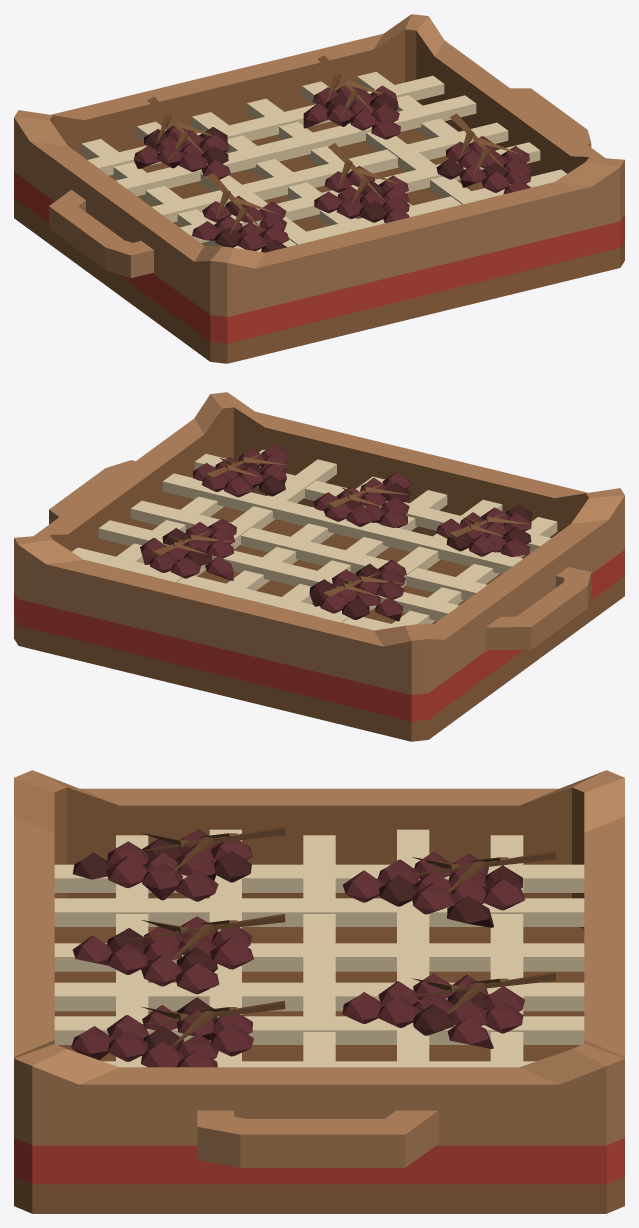
The model's file is FMS_Workshop_PRD_12.fbx.
3 views of the same model, one above another, from view 1: azimuth 30°, elevation 25°; view 2: azimuth 150°, elevation 25°; view 3: azimuth 270°, elevation 25° (orthographic). The views are drawn at different scales.
Visible parts, largest first — view 1: FMS_Workshop_PRD_12_Body; view 2: FMS_Workshop_PRD_12_Body; view 3: FMS_Workshop_PRD_12_Body.
Part boxes in pixels (left/top/right/bottom): FMS_Workshop_PRD_12_Body: left=14, top=14, right=624, bottom=363; FMS_Workshop_PRD_12_Body: left=14, top=392, right=624, bottom=741; FMS_Workshop_PRD_12_Body: left=14, top=770, right=624, bottom=1213.
Size of the model in its own units: 0.4 by 0.0828 by 0.3.
1 material, 1 textured.
